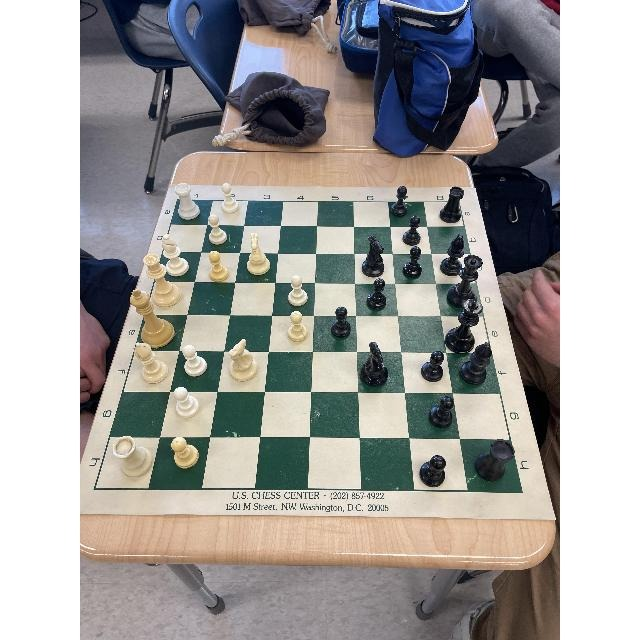black-king: (440, 243, 480, 313)
black-pawn: (418, 451, 453, 490), (425, 394, 459, 430), (402, 236, 427, 284), (362, 236, 389, 280), (419, 348, 449, 385), (364, 277, 392, 313), (329, 306, 355, 340), (403, 216, 424, 257), (392, 181, 410, 218)
black-queen: (444, 269, 485, 338), (452, 315, 488, 379)
black-rook: (472, 436, 517, 486), (440, 235, 474, 285), (361, 340, 393, 389), (460, 343, 496, 386), (440, 185, 466, 227)
white-bishop: (129, 348, 177, 387), (149, 246, 190, 284), (227, 340, 259, 384), (245, 234, 270, 278)
white-pawn: (167, 438, 205, 476), (167, 390, 207, 424), (204, 250, 235, 288), (285, 307, 311, 346), (178, 345, 206, 379), (287, 274, 311, 308), (207, 214, 226, 247)
white-rook: (130, 303, 184, 347), (109, 441, 155, 483), (170, 187, 203, 221), (217, 179, 244, 218)
